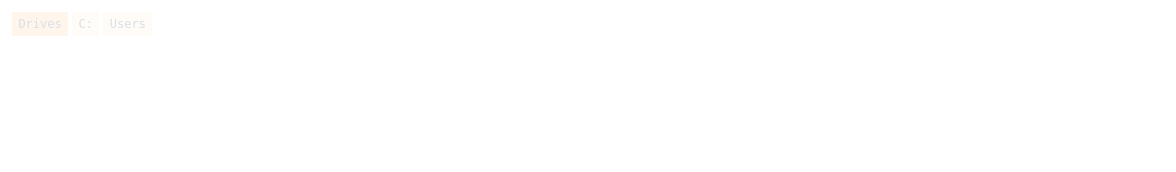
Test: Breadcrumbs › browses recent folder suggestions with arrow keys and mirrors value in input
The image size is (1176, 172).
Step 1. Click the button with aria-label "Current path" → {"x": 82, "y": 24}, box 12,12 -> 152,36
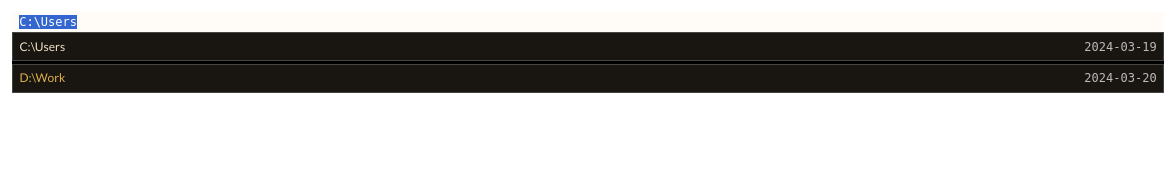
Step 2. Press ArrowDown in the field named "Current folder path", box 12,12 -> 1164,32
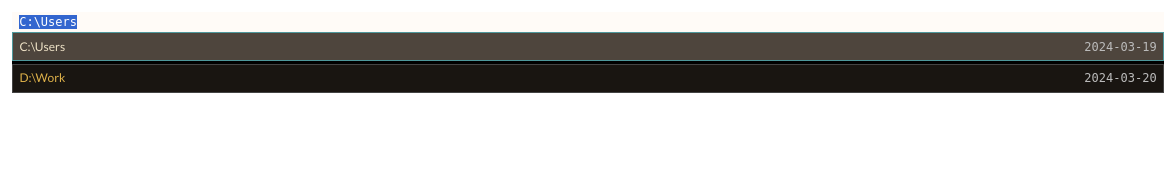
Now the field named "Current folder path" holds "C:\\Users"
Step 3. Press ArrowDown in the field named "Current folder path", box 12,12 -> 1164,32
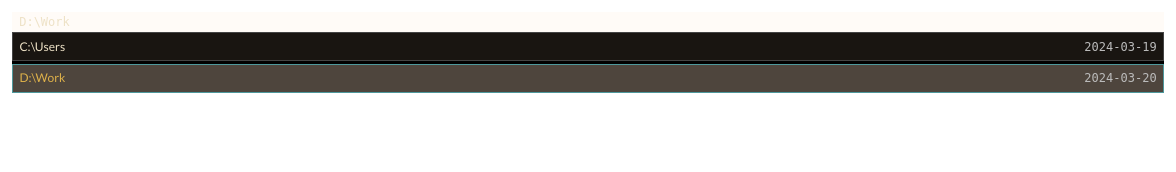
Now the field named "Current folder path" holds "D:\\Work"
Step 4. Press ArrowUp in the field named "Current folder path", box 12,12 -> 1164,32
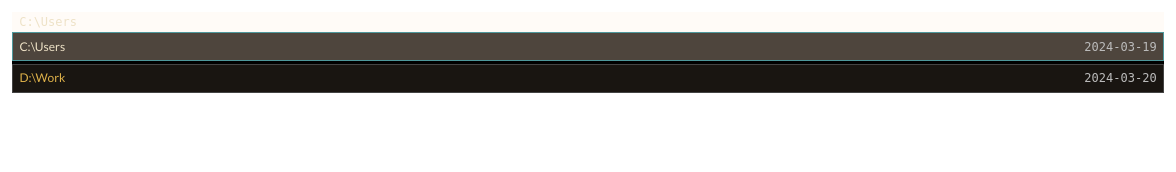
Now the field named "Current folder path" holds "C:\\Users", box 12,12 -> 1164,32
